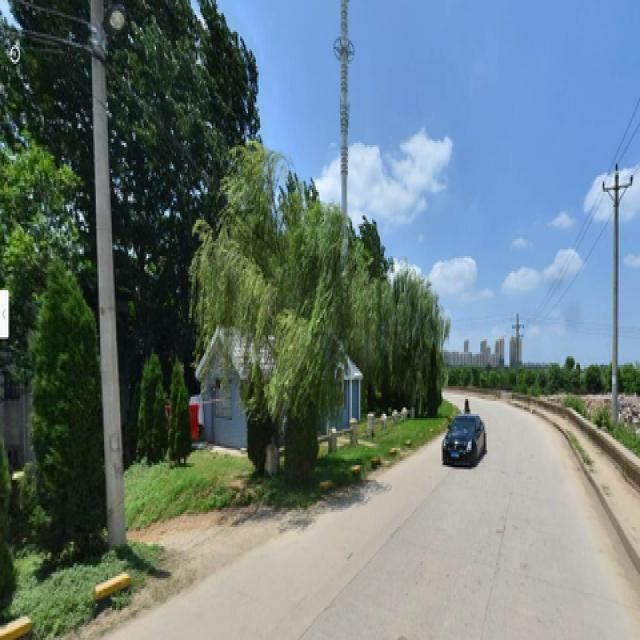plat: (203, 145, 364, 497)
